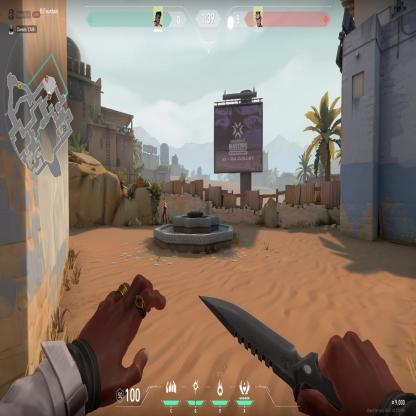enemy: (161, 198, 167, 227)
